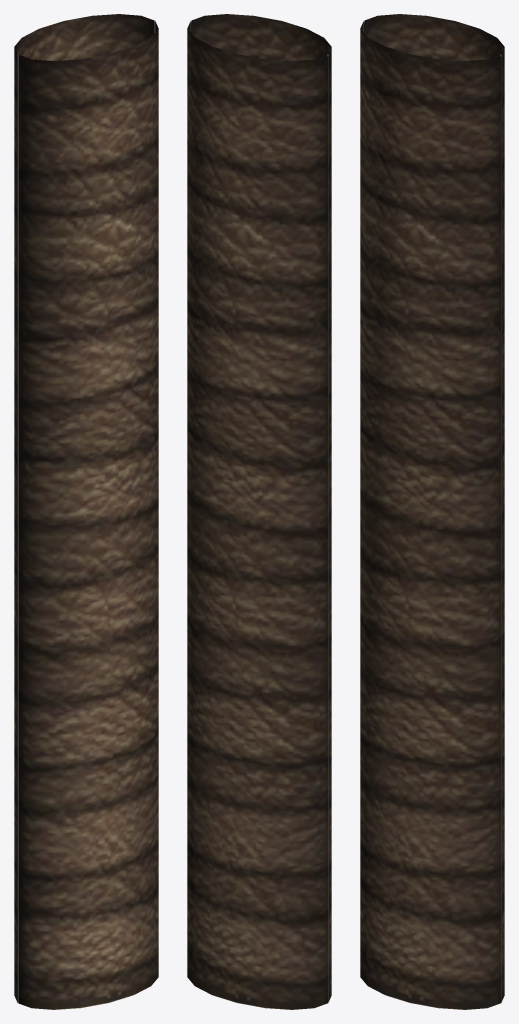
Rendered from vibro_sword2b_grip.fbx.
3 renders of one model, left to right at view 1: azimuth 30°, elevation 25°; view 2: azimuth 150°, elevation 25°; view 3: azimuth 330°, elevation 25°, orthographic.
Visible parts, largest first — view 1: vibro_sword2b_grip; view 2: vibro_sword2b_grip; view 3: vibro_sword2b_grip.
Part boxes in pixels (x1=…): vibro_sword2b_grip: x1=14, y1=14, x2=158, y2=1009; vibro_sword2b_grip: x1=187, y1=14, x2=331, y2=1009; vibro_sword2b_grip: x1=360, y1=14, x2=504, y2=1009.
Bounding box in the file's own units: 3.24 × 21.36 × 1.85.
1 material, 1 textured.
